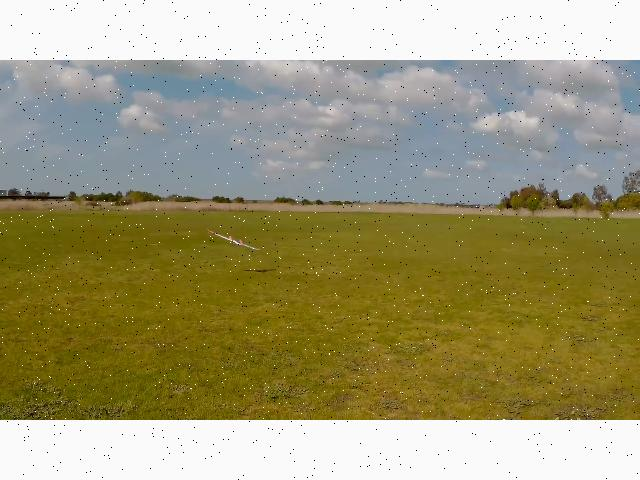Anti-Drone: (208, 228, 260, 250)
